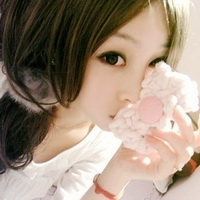face: (76, 1, 174, 131)
